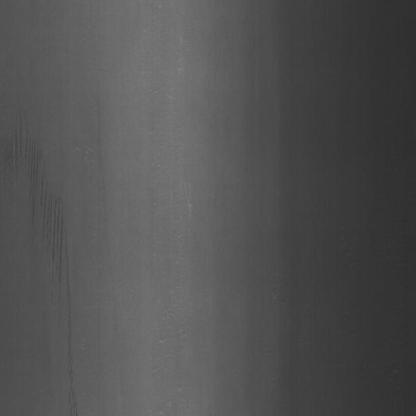water_spot: (4, 107, 81, 414)
